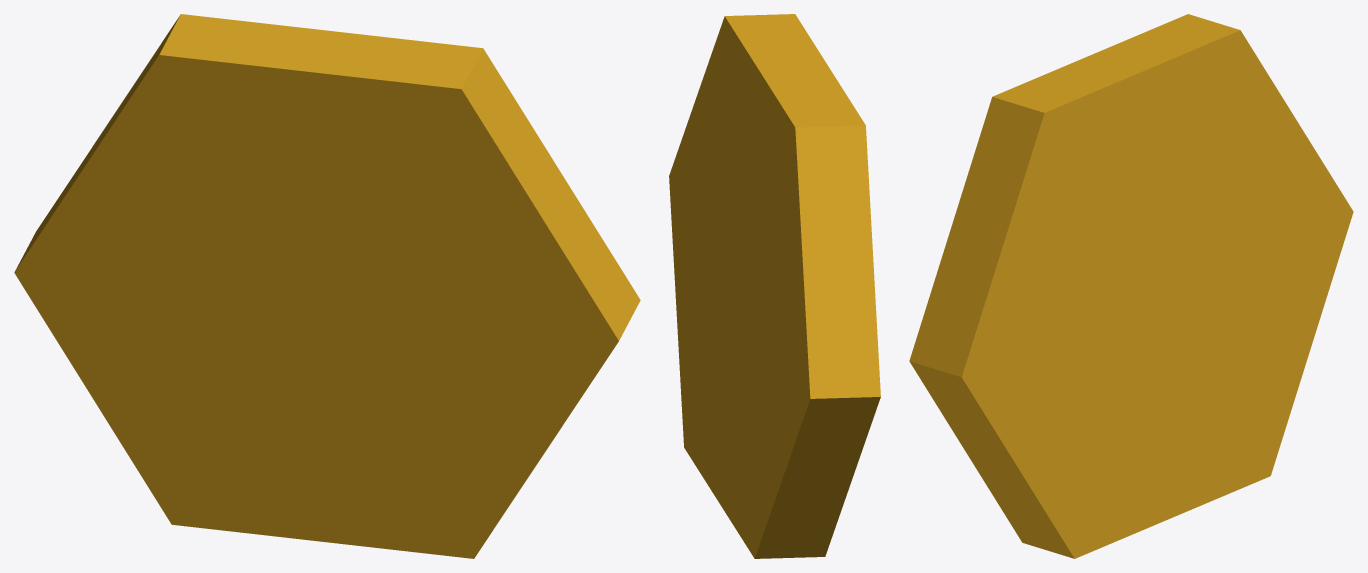
Rendered from Asian_Prop_Building_Modular_Roof_End_Cap_02.FBX.
The picture shows the model from 3 angles, left to right: view 1: azimuth 30°, elevation 25°; view 2: azimuth 150°, elevation 25°; view 3: azimuth 270°, elevation 25°; orthographic projection. The views are drawn at different scales.
Visible parts, largest first — view 1: Asian_Prop_Building_Modular_Roof_End_Cap_02; view 2: Asian_Prop_Building_Modular_Roof_End_Cap_02; view 3: Asian_Prop_Building_Modular_Roof_End_Cap_02.
Part boxes in pixels (<box>): Asian_Prop_Building_Modular_Roof_End_Cap_02: <box>14,14,640,558</box>; Asian_Prop_Building_Modular_Roof_End_Cap_02: <box>669,14,880,558</box>; Asian_Prop_Building_Modular_Roof_End_Cap_02: <box>909,14,1353,558</box>.
Bounding box in the file's own units: 269 × 293 × 269.
